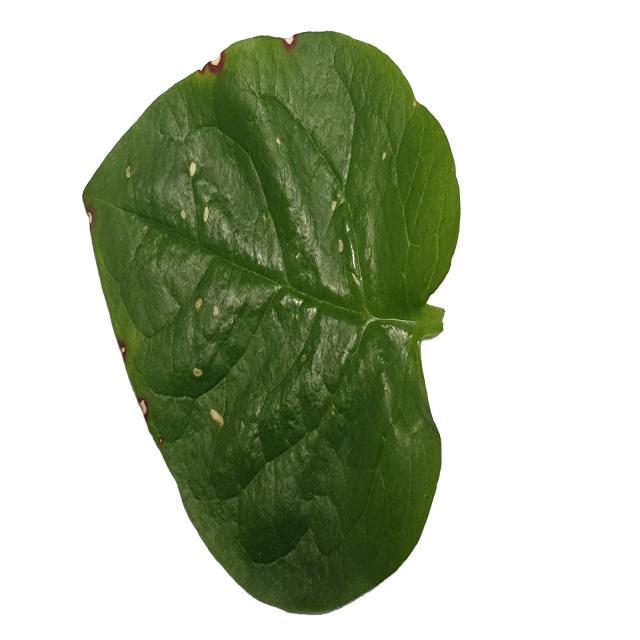Medicinal-Basale: (81, 29, 461, 616)
